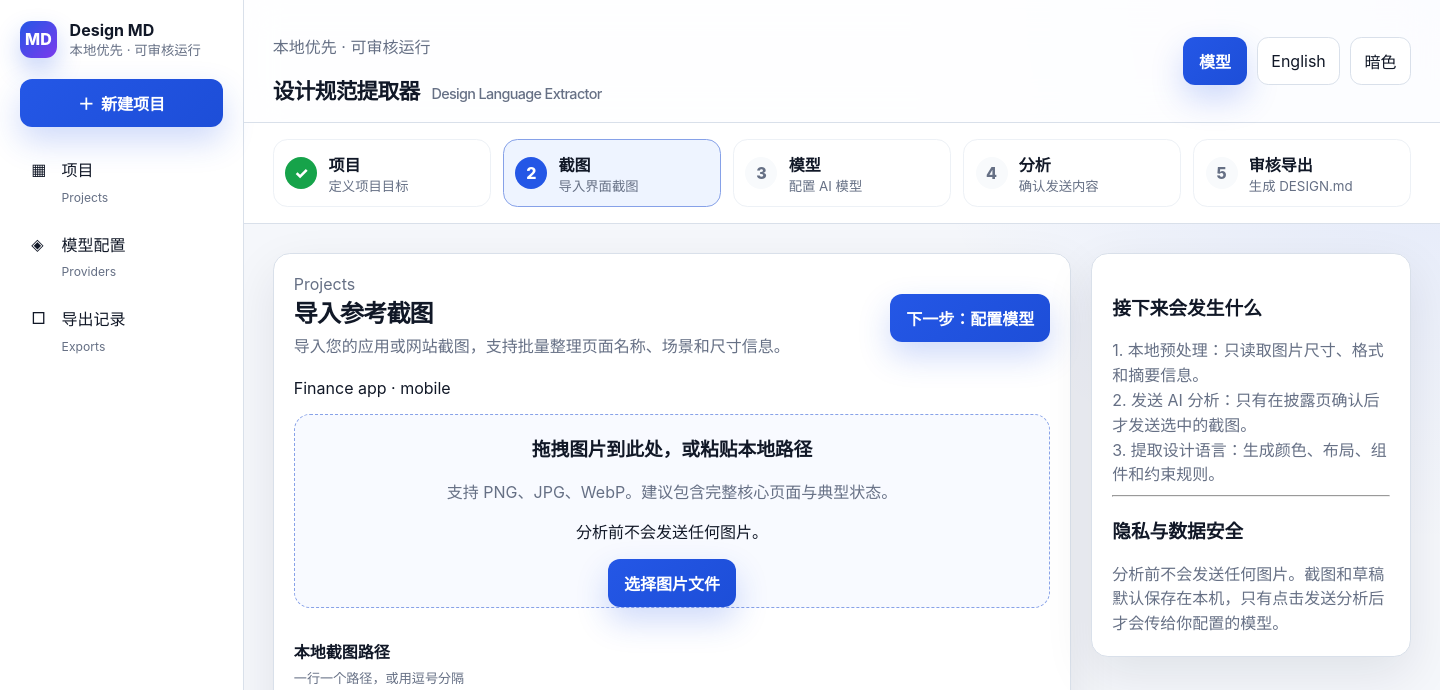
Test case: ScreenshotManagerPage › displays screenshot metadata and recommends three or more screenshots
Click the button with aria-label "Configure analysis". click: click(970, 318)
box: [890,294,1050,342]
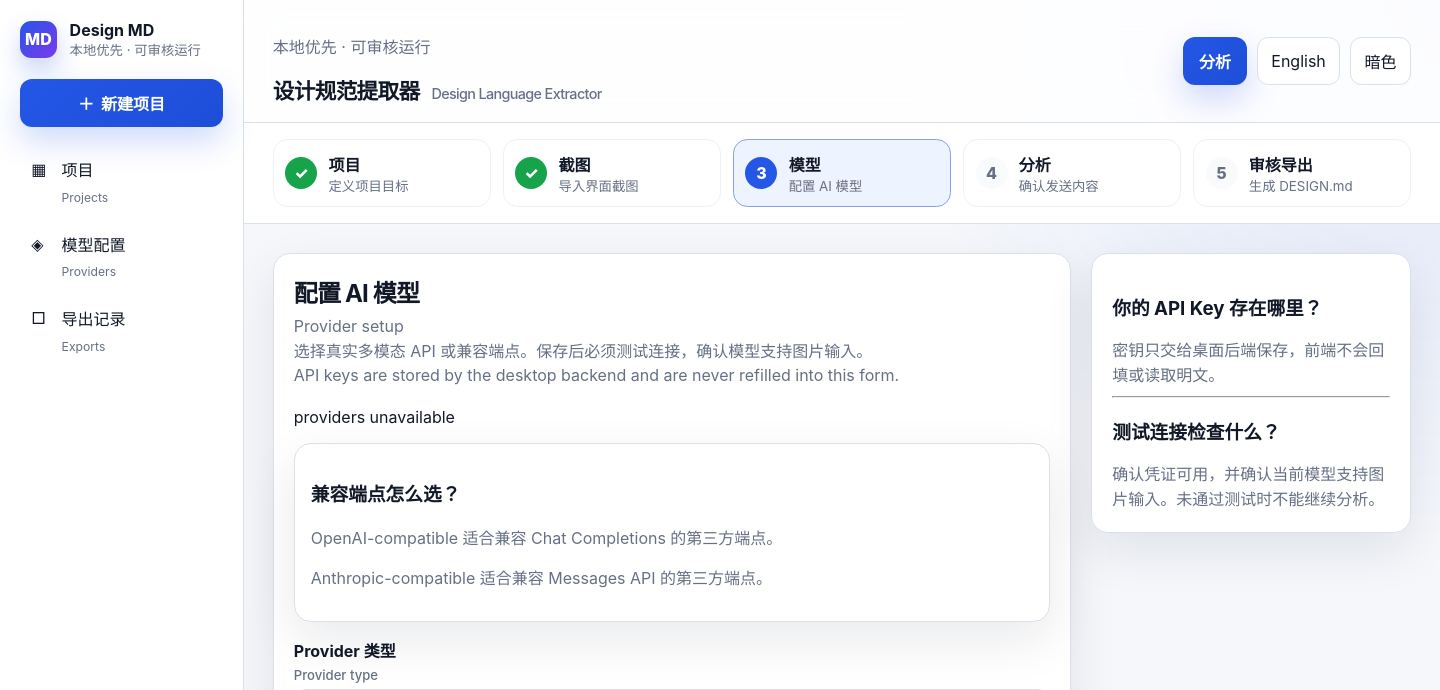
expect the text "Provider setup" is shown: met, box [294,316,404,336]
